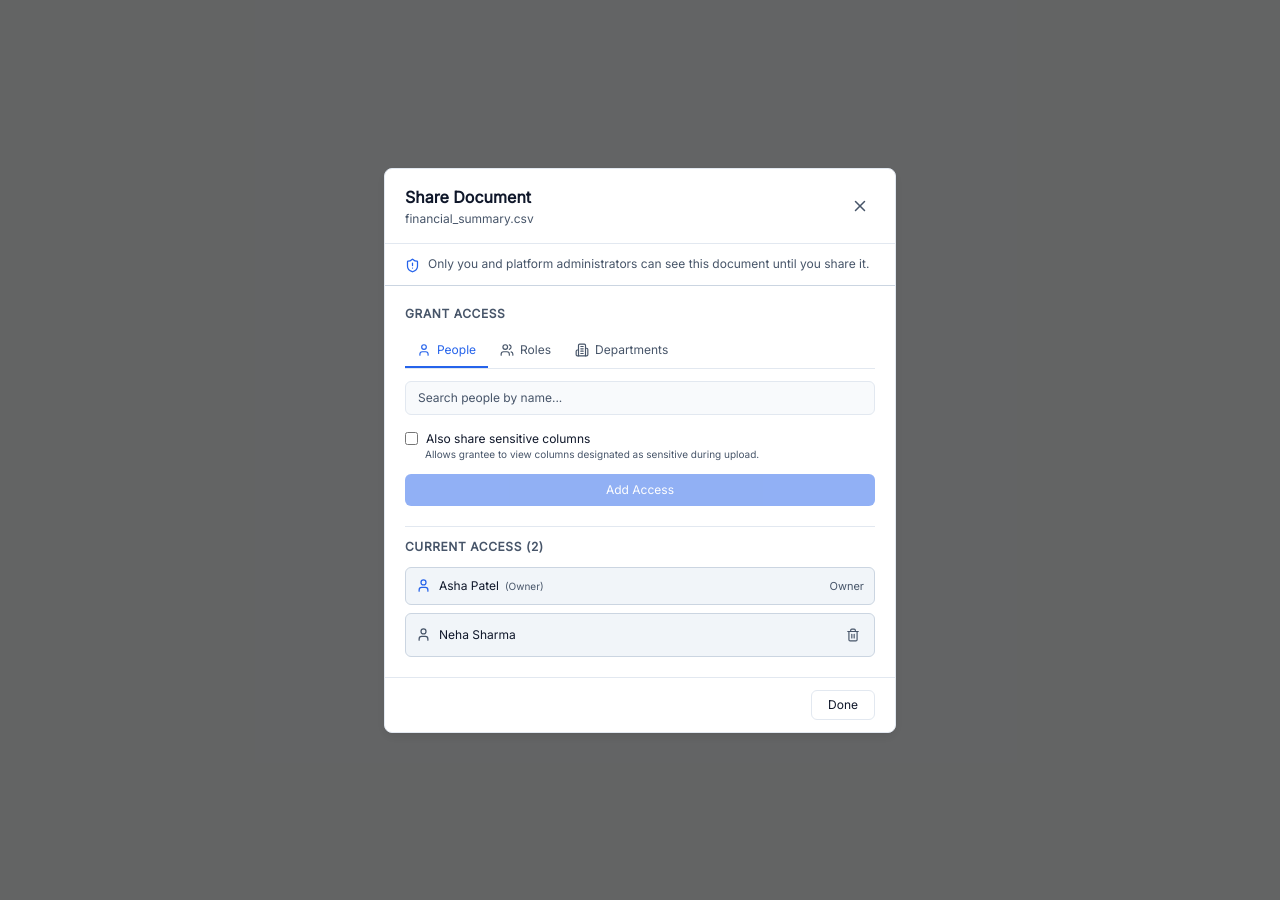
Test: ShareDialog Component › 3. removes share immediately and announces "Access removed"
Expected: the text "Neha Sharma" is shown, [439,626,516,642]
Click the button with test id "remove-share-share-1". click: {"x": 853, "y": 634}
box: [842,624,864,646]
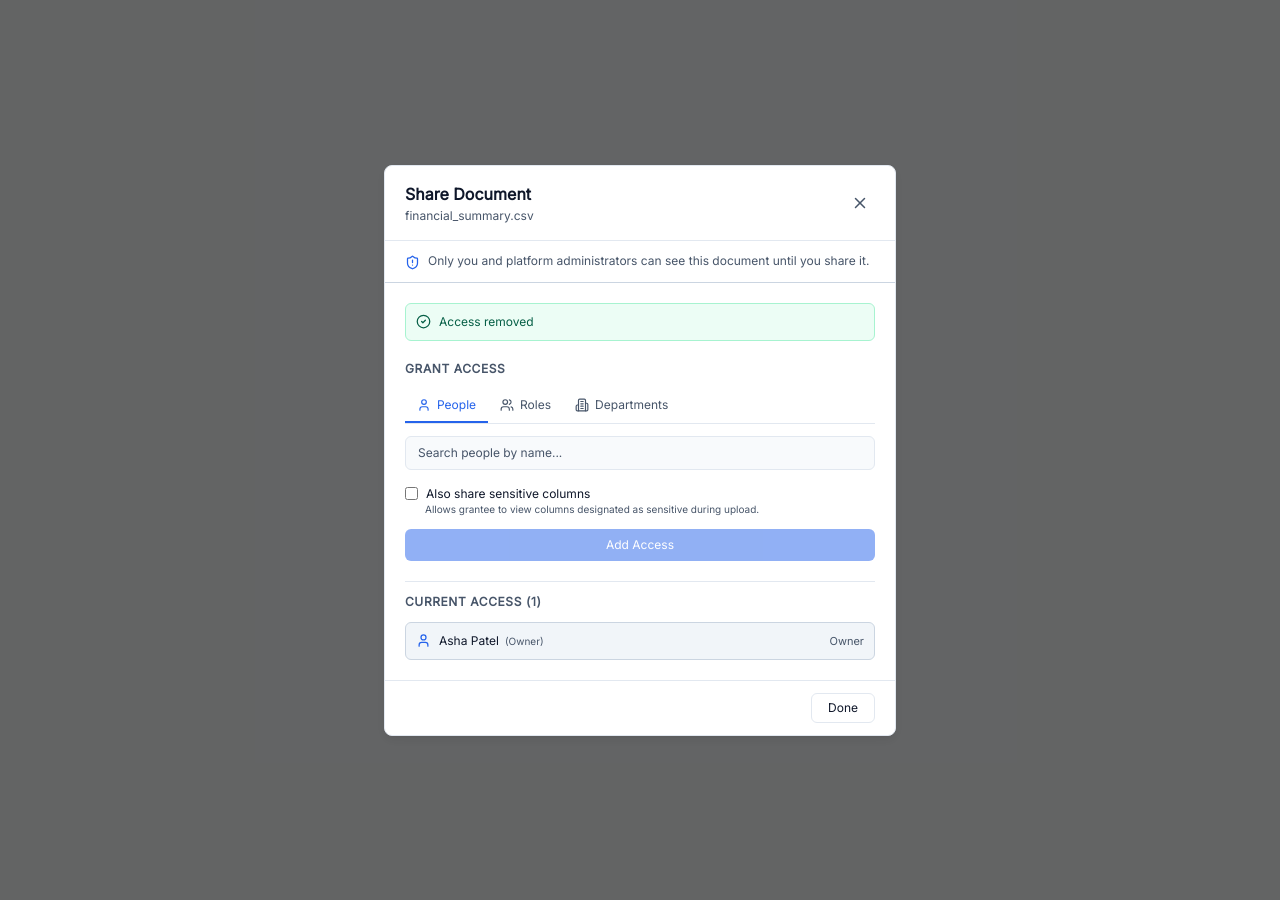
Now the text "Access removed" is shown, box [439,314,534,330]
Now the text "Neha Sharma" is gone
